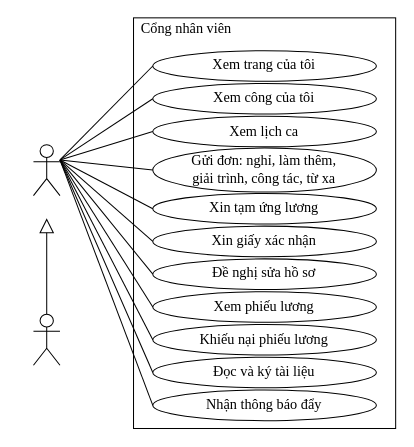
This 414x447 diagram has some shape labels left out. Here are the shapes that lost their labels. From the top down, the centre of each, then its label:
point 46,170: Nhân viên
point 46,339: Quản lý
